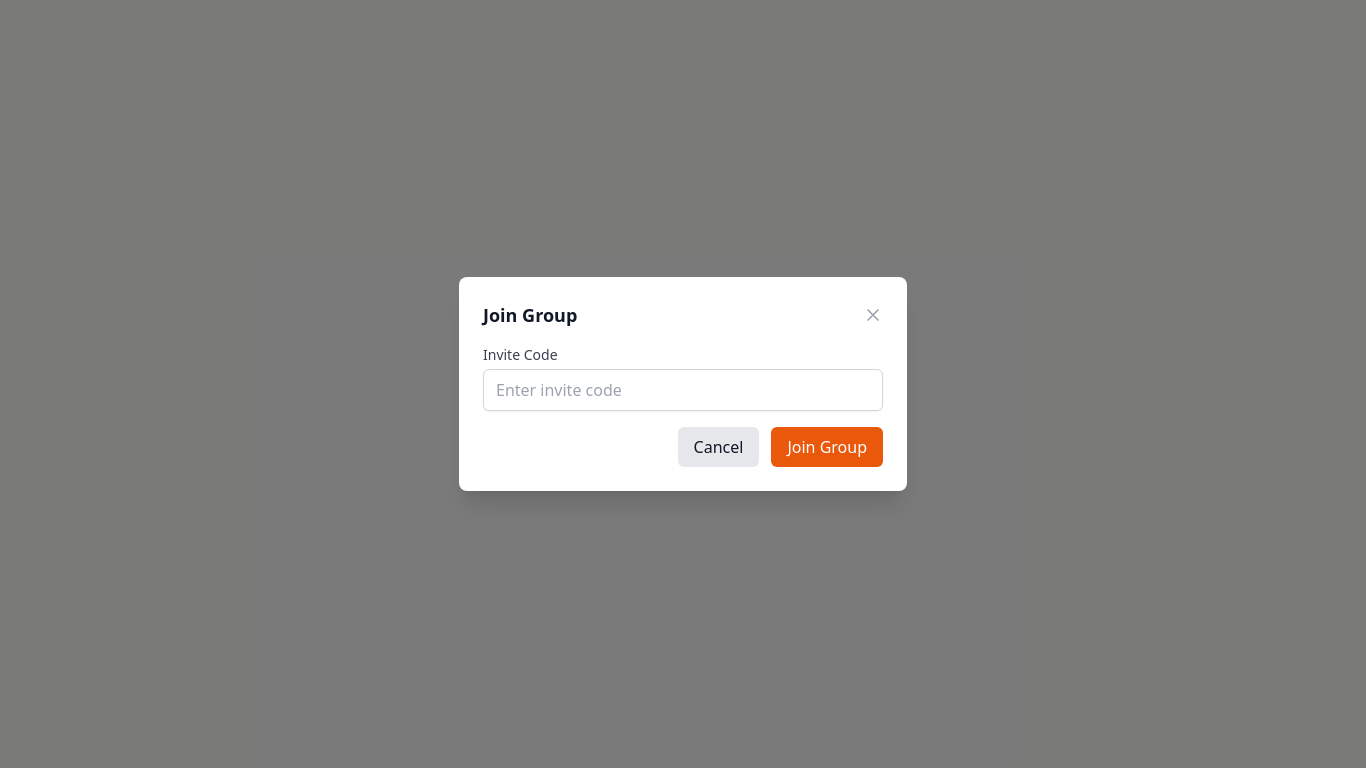
Test: JoinGroupModal › should show error on invalid code
Type "INVALID" into the field labelled "Invite Code" at [683, 390], box [483,369,883,411]
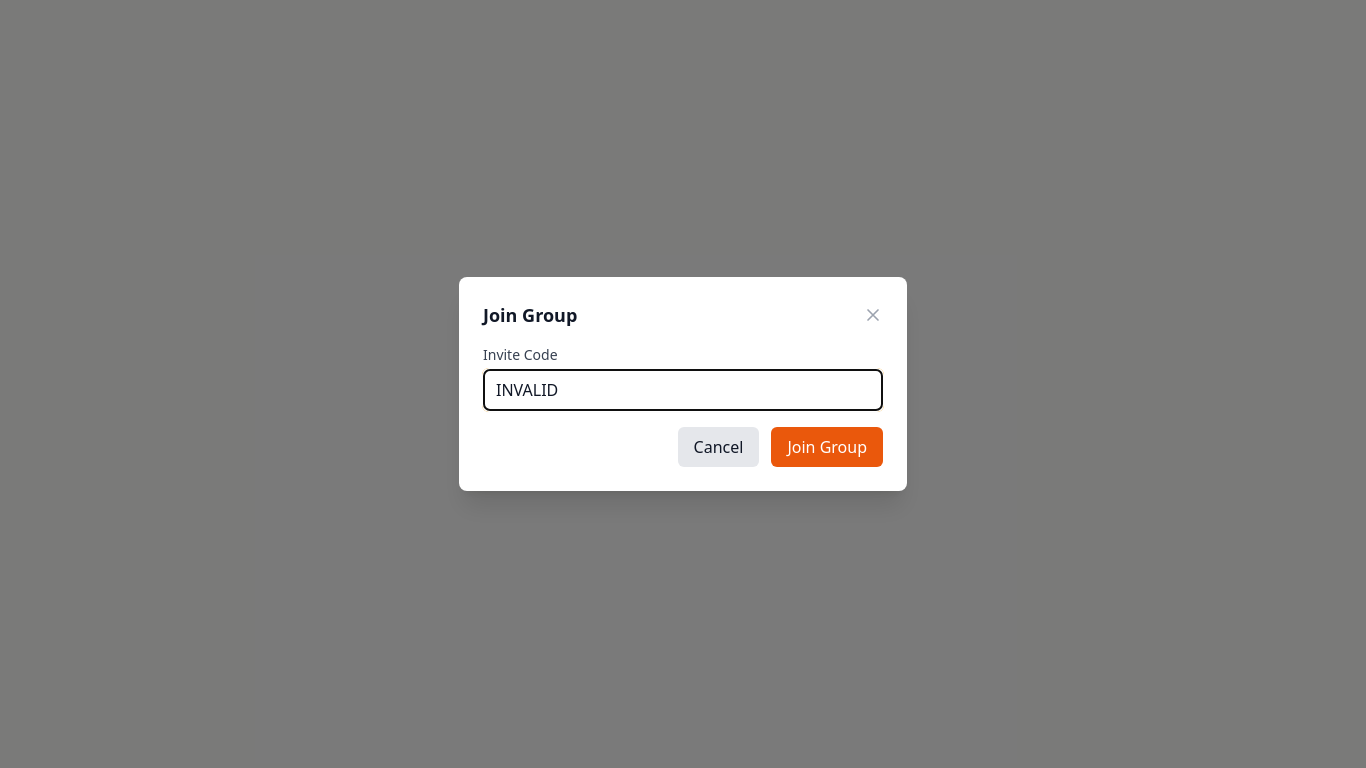
Click the button "Join Group" at [827, 447], box [771,427,883,467]
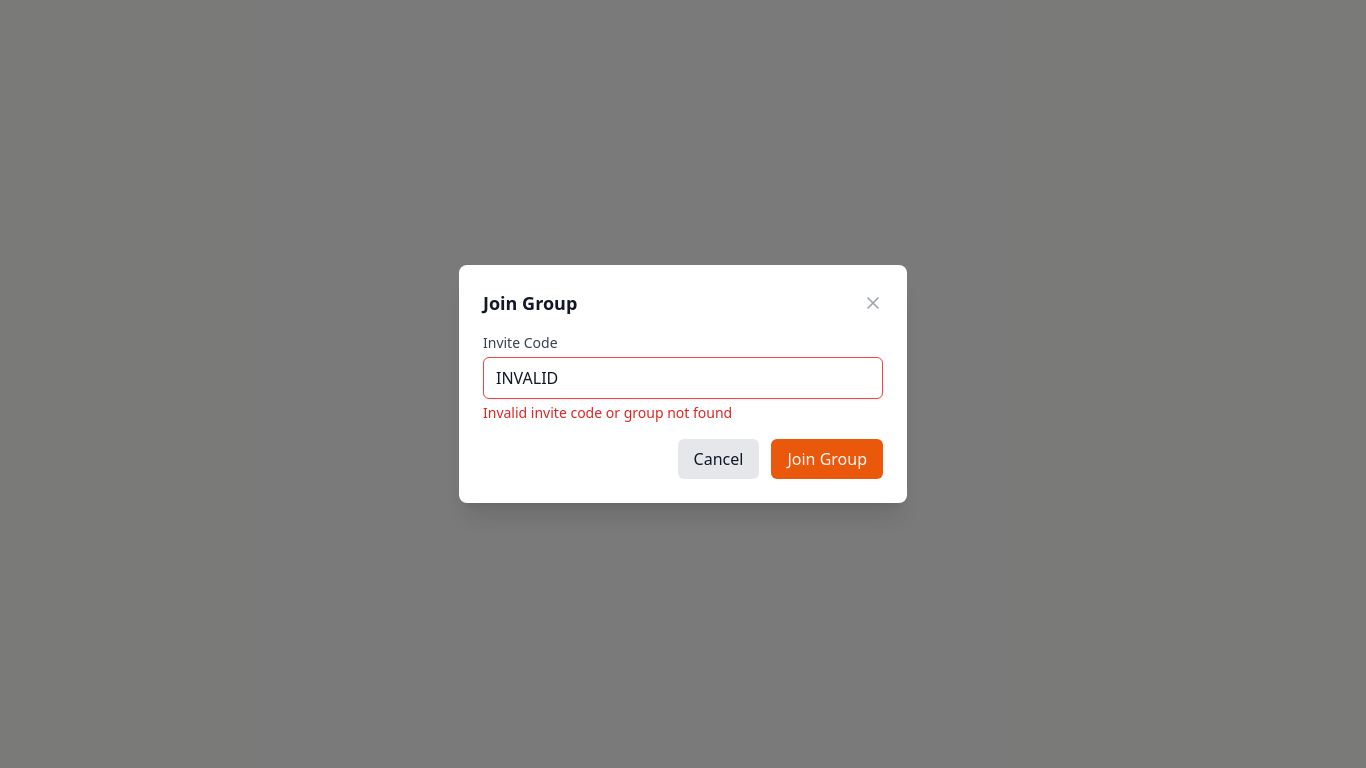
Check: the text "Invalid invite code or group not found" is shown, box [483,403,732,422]
